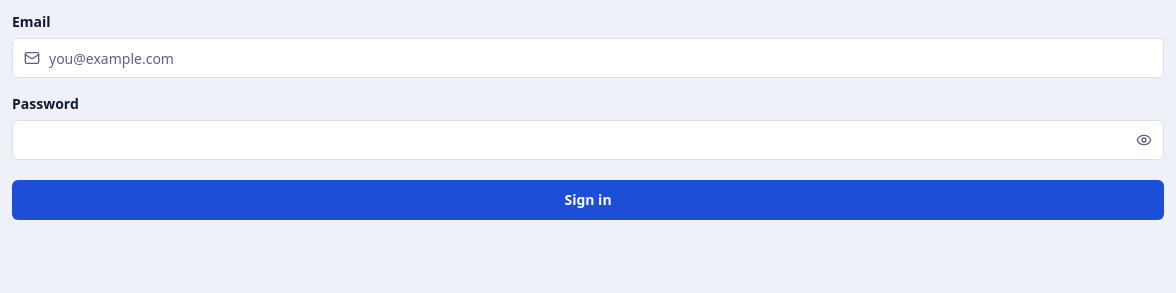
LoginForm › clears the error once the user edits a field
Type "ada@example.com" into the field labelled "Email" at (588, 58), box [12,38,1164,78]
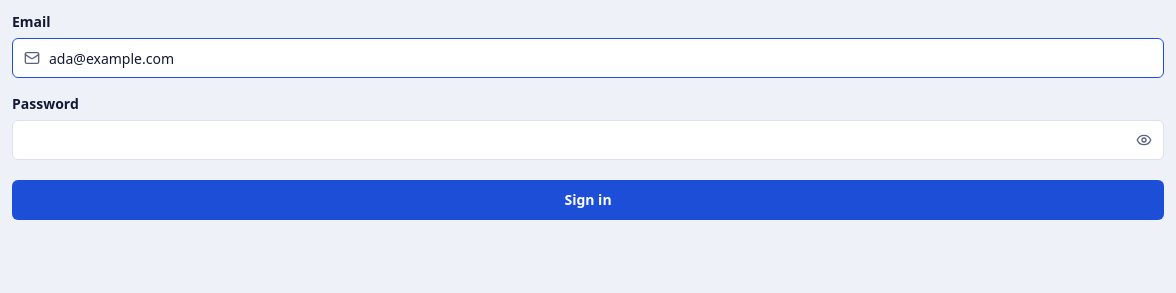
Type "wrong" into the password field labelled "Password" at (588, 140), box [12,120,1164,160]
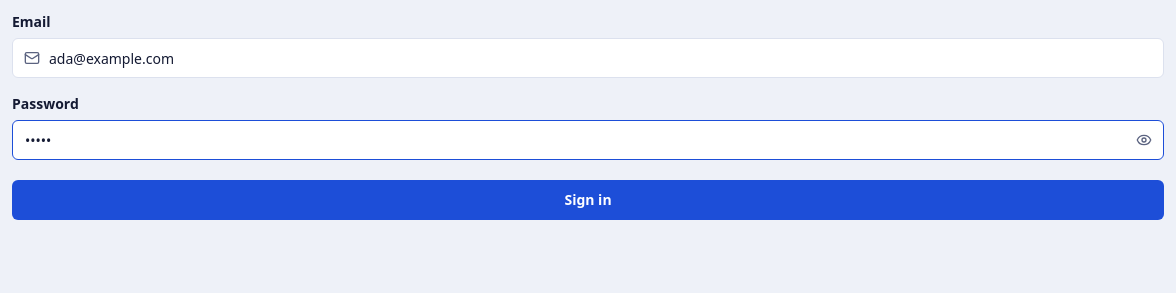
Click the button "Sign in" at (588, 200), box [12,180,1164,220]
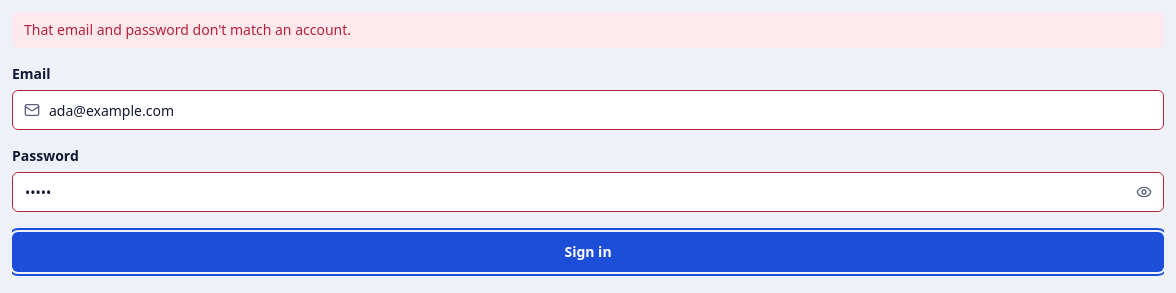
Check: the message "That email and password don't match an account." is shown, box [12,12,1164,48]
Type "!" into the password field labelled "Password" at (588, 192), box [12,172,1164,212]
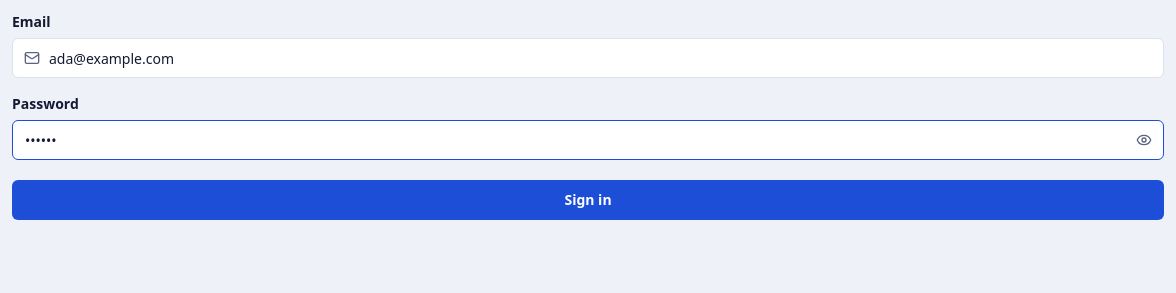
Check: the message "That email and password don't match an account." is gone
